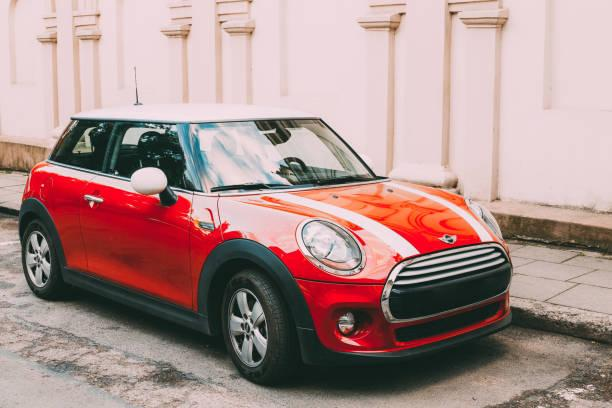mini: (433, 227, 477, 250)
